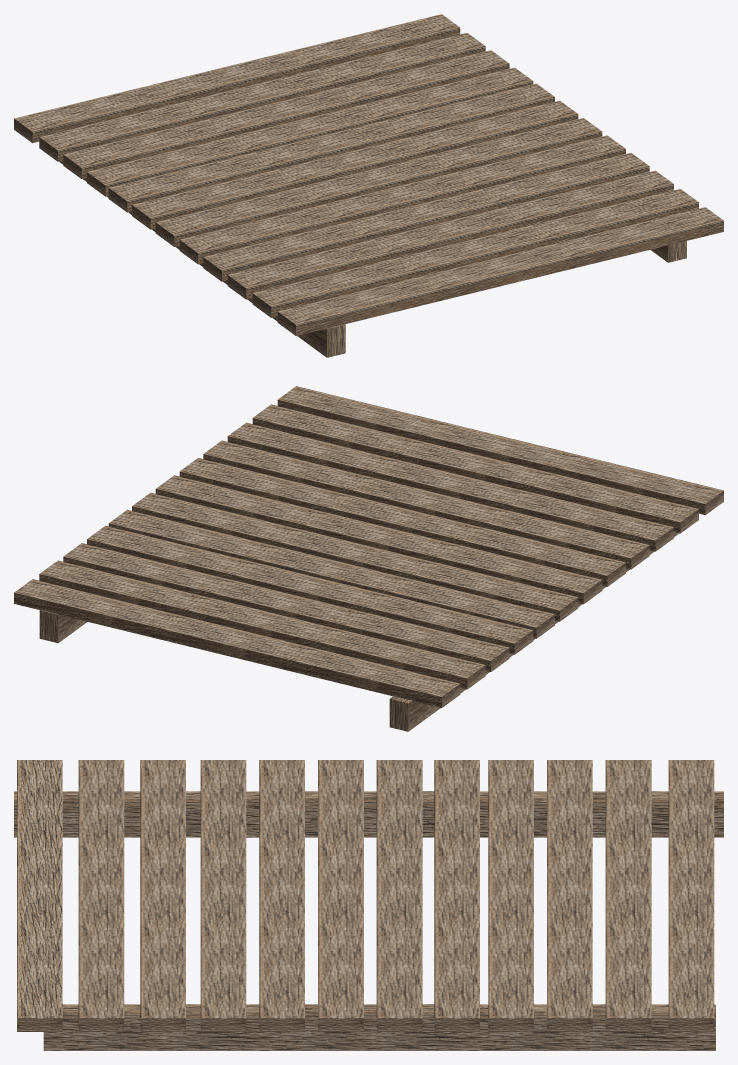
Rendered from BaseMaderas.fbx.
The picture shows the model from 3 angles, top to bottom: view 1: azimuth 30°, elevation 25°; view 2: azimuth 150°, elevation 25°; view 3: azimuth 270°, elevation 25°; orthographic projection. The views are drawn at different scales.
Visible parts, largest first — view 1: BaseMaderas; view 2: BaseMaderas; view 3: BaseMaderas.
Boxes of the visible parts, x1,y1,x2,y2 form: BaseMaderas: (14,14,723,357); BaseMaderas: (14,386,723,731); BaseMaderas: (14,760,723,1050).
Bounding box in the file's own units: 400 × 35.04 × 465.
Materials: 1 (1 with a texture image).
